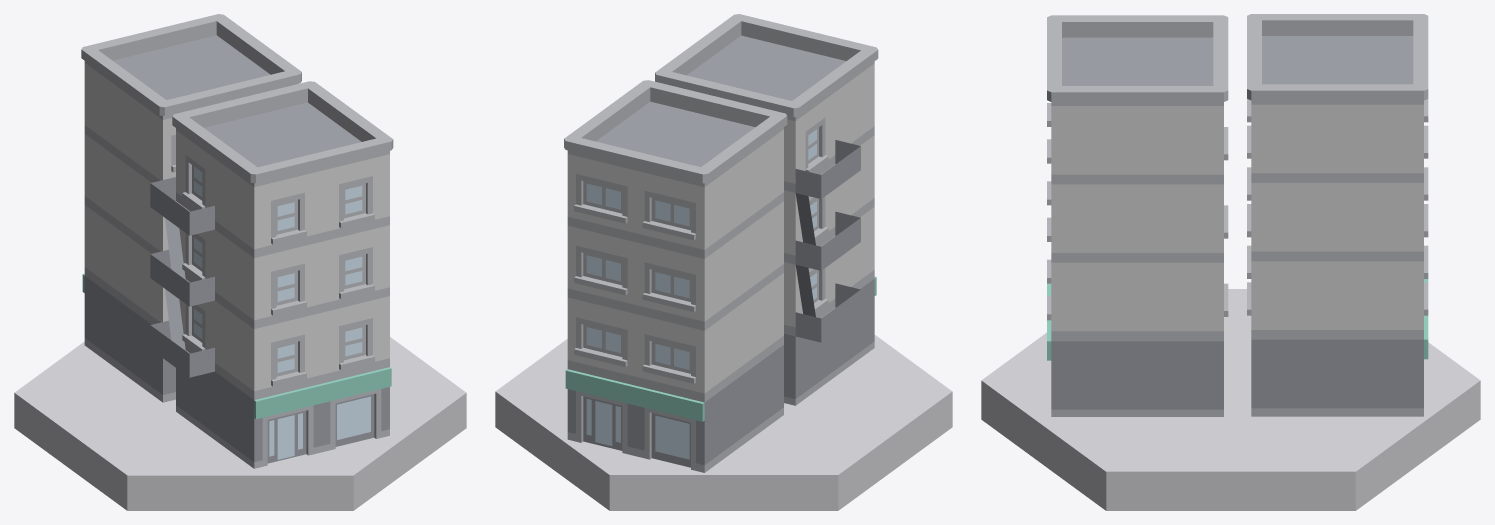
File: 2_buildings_2_low.fbx
The picture shows the model from 3 angles, left to right: view 1: azimuth 30°, elevation 25°; view 2: azimuth 150°, elevation 25°; view 3: azimuth 270°, elevation 25°; orthographic projection. The views are drawn at different scales.
Parts seen in each view (by area): view 1: large_buildingC.001, pavement_low.011, large_buildingB.001; view 2: large_buildingB.001, large_buildingC.001, pavement_low.011; view 3: large_buildingB.001, large_buildingC.001, pavement_low.011.
Boxes of the visible parts, <box> form: large_buildingC.001: <box>150,81,393,468</box>; pavement_low.011: <box>14,337,466,510</box>; large_buildingB.001: <box>81,14,301,402</box>; large_buildingB.001: <box>564,80,787,472</box>; large_buildingC.001: <box>655,14,878,405</box>; pavement_low.011: <box>495,335,952,510</box>; large_buildingB.001: <box>1247,14,1428,416</box>; large_buildingC.001: <box>1047,15,1228,416</box>; pavement_low.011: <box>981,289,1480,510</box>.
Bounding box in the file's own units: 100 × 93.65 × 115.
